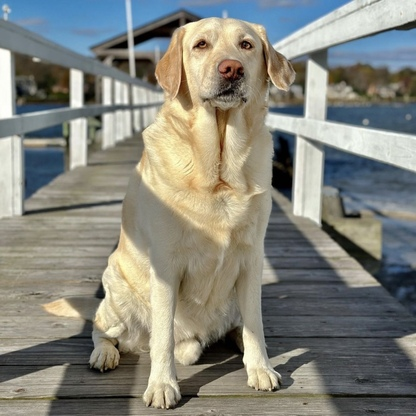labrado: (41, 15, 299, 412)
